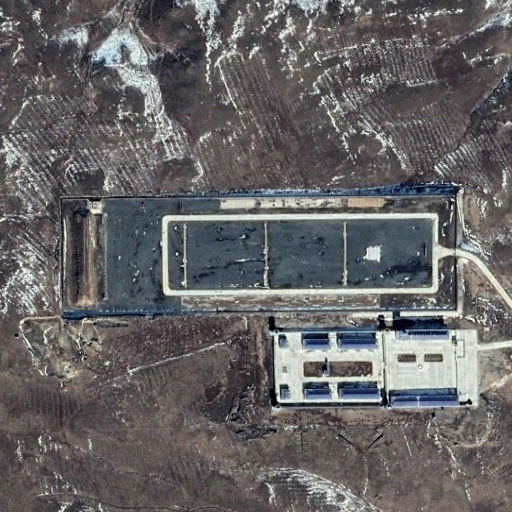lf: (57, 192, 462, 315)
